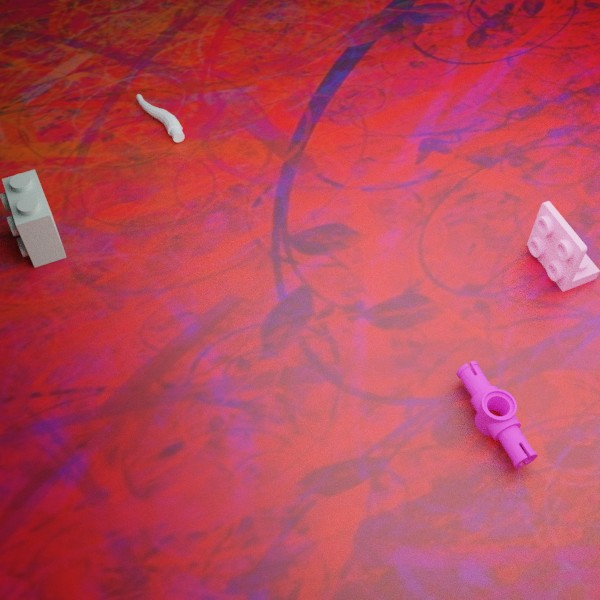lego: (456, 361, 537, 468), (526, 201, 600, 291), (0, 169, 66, 267), (136, 94, 184, 142)
